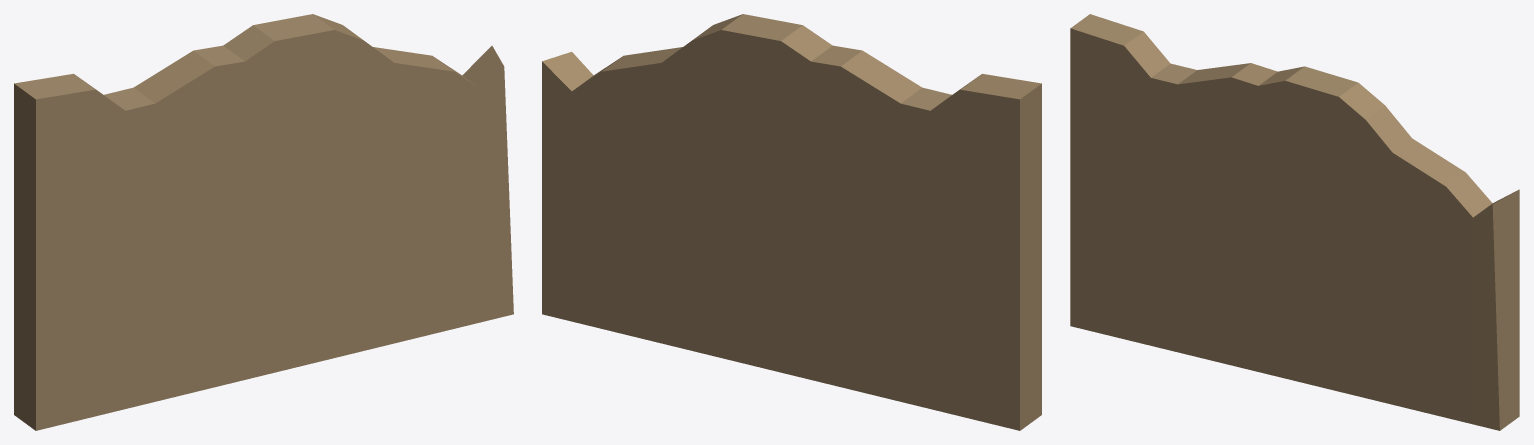
3 renders of one model, left to right at view 1: azimuth 30°, elevation 25°; view 2: azimuth 150°, elevation 25°; view 3: azimuth 330°, elevation 25°, orthographic. The views are drawn at different scales.
Parts seen in each view (by area): view 1: Cube.050; view 2: Cube.050; view 3: Cube.050.
Part boxes in pixels (x1,y1,x2,y2): Cube.050: (14, 14, 513, 430); Cube.050: (542, 14, 1041, 430); Cube.050: (1070, 14, 1519, 430).
Bounding box in the file's own units: 2.57 × 1.7 × 0.2032.
